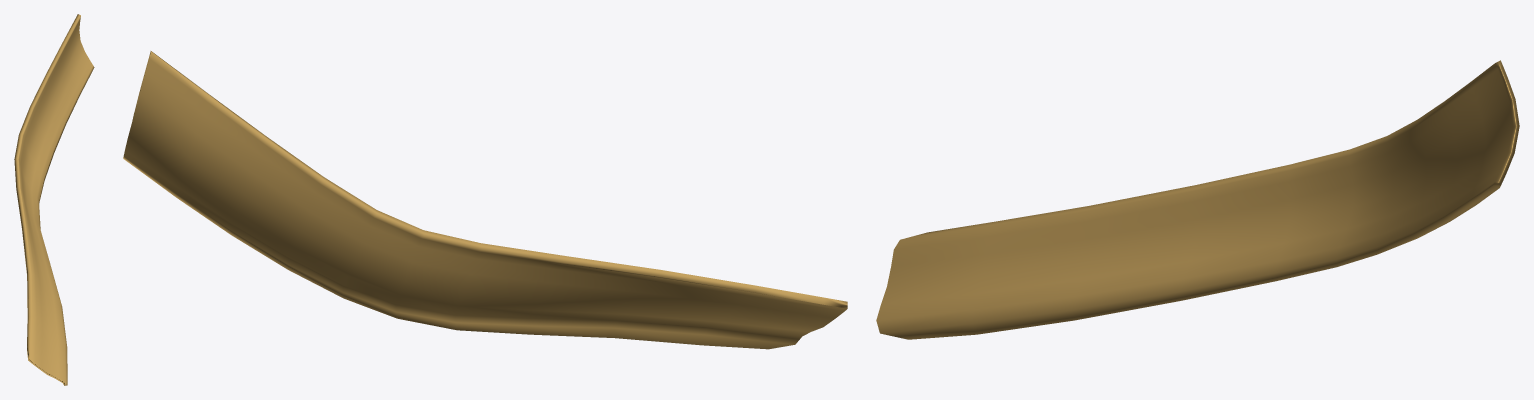
The picture shows the model from 3 angles, left to right: view 1: azimuth 30°, elevation 25°; view 2: azimuth 150°, elevation 25°; view 3: azimuth 270°, elevation 25°; orthographic projection. The views are drawn at different scales.
Visible parts, largest first — view 1: 左侧耻股韧带; view 2: 左侧耻股韧带; view 3: 左侧耻股韧带.
Part boxes in pixels (<box>): 左侧耻股韧带: <box>14,14,94,385</box>; 左侧耻股韧带: <box>123,51,847,349</box>; 左侧耻股韧带: <box>876,60,1519,339</box>.
Bounding box in the file's own units: 0.0505 × 0.0492 × 0.0658.
